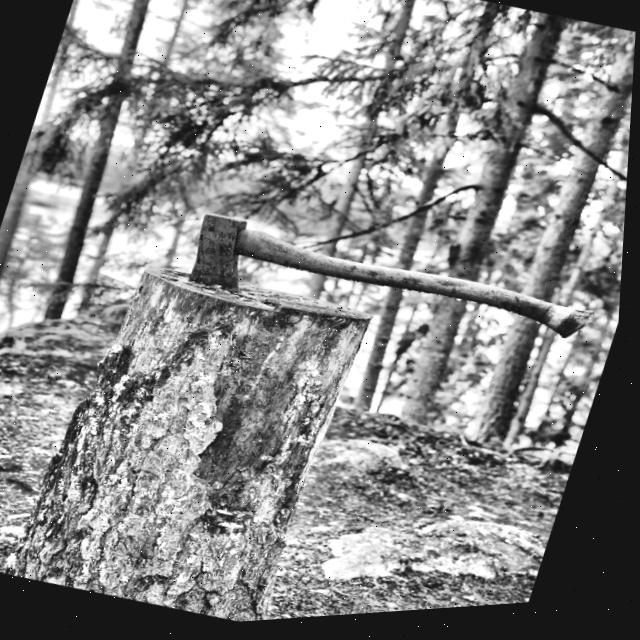kapak: (179, 199, 607, 342)
